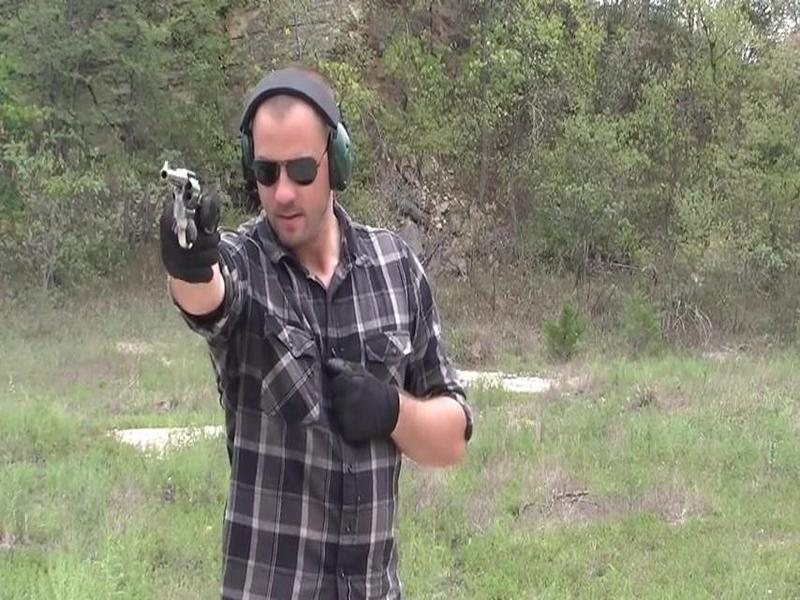Revolver: (155, 140, 201, 266)
